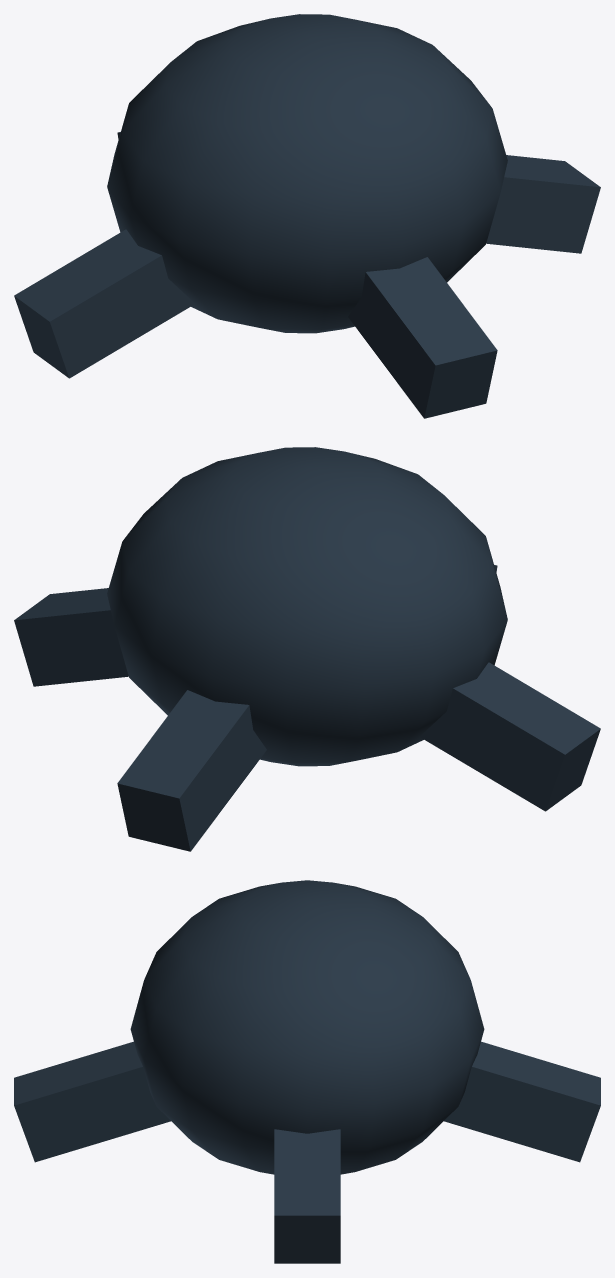
File: CMU3DHiveCMUHunterShipObjEffectAlienWeedsNodeForsakenWeednodeSouth.glb
The picture shows the model from 3 angles, top to bottom: view 1: azimuth 30°, elevation 25°; view 2: azimuth 150°, elevation 25°; view 3: azimuth 270°, elevation 25°; orthographic projection. The views are drawn at different scales.
Parts seen in each view (by area): view 1: root nodule, anchoring root (×3); view 2: root nodule, anchoring root (×3); view 3: root nodule, anchoring root (×3).
Boxes of the visible parts, x1,y1,x2,y2 form: root nodule: [107, 14, 507, 333]; anchoring root (×3): [14, 155, 600, 418]; root nodule: [107, 447, 507, 766]; anchoring root (×3): [14, 588, 600, 851]; root nodule: [130, 880, 484, 1174]; anchoring root (×3): [14, 1041, 600, 1263].
Size of the model in its own units: 0.4977 by 0.24 by 0.4977.
